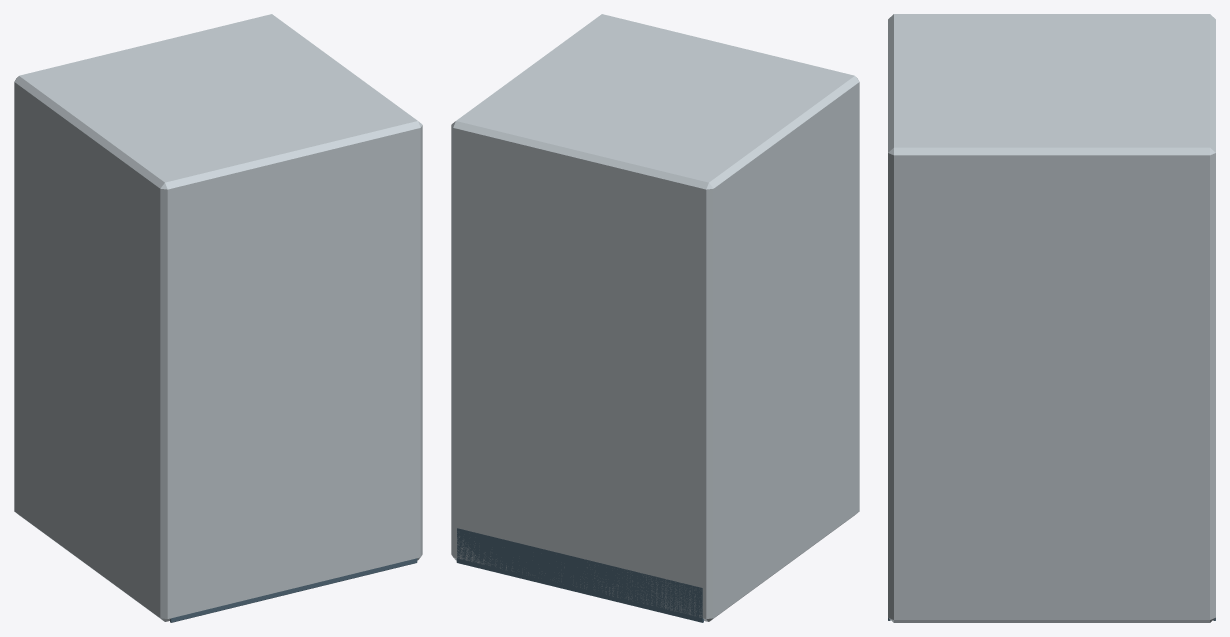
Rendered from wall.glb.
The picture shows the model from 3 angles, left to right: view 1: azimuth 30°, elevation 25°; view 2: azimuth 150°, elevation 25°; view 3: azimuth 270°, elevation 25°; orthographic projection. The views are drawn at different scales.
Visible parts, largest first — view 1: Wall_Geometry; view 2: Wall_Geometry; view 3: Wall_Geometry.
Part boxes in pixels (x1,y1,x2,y2): Wall_Geometry: (14,14,422,622); Wall_Geometry: (451,14,859,622); Wall_Geometry: (888,14,1215,622).
Bounding box in the file's own units: 1 × 1.6 × 1.
